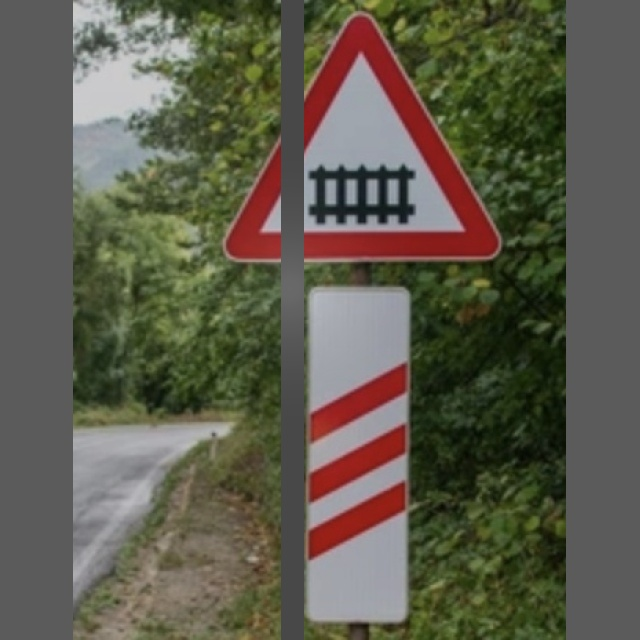Guarded_Level_Crossing: (236, 13, 487, 261)
